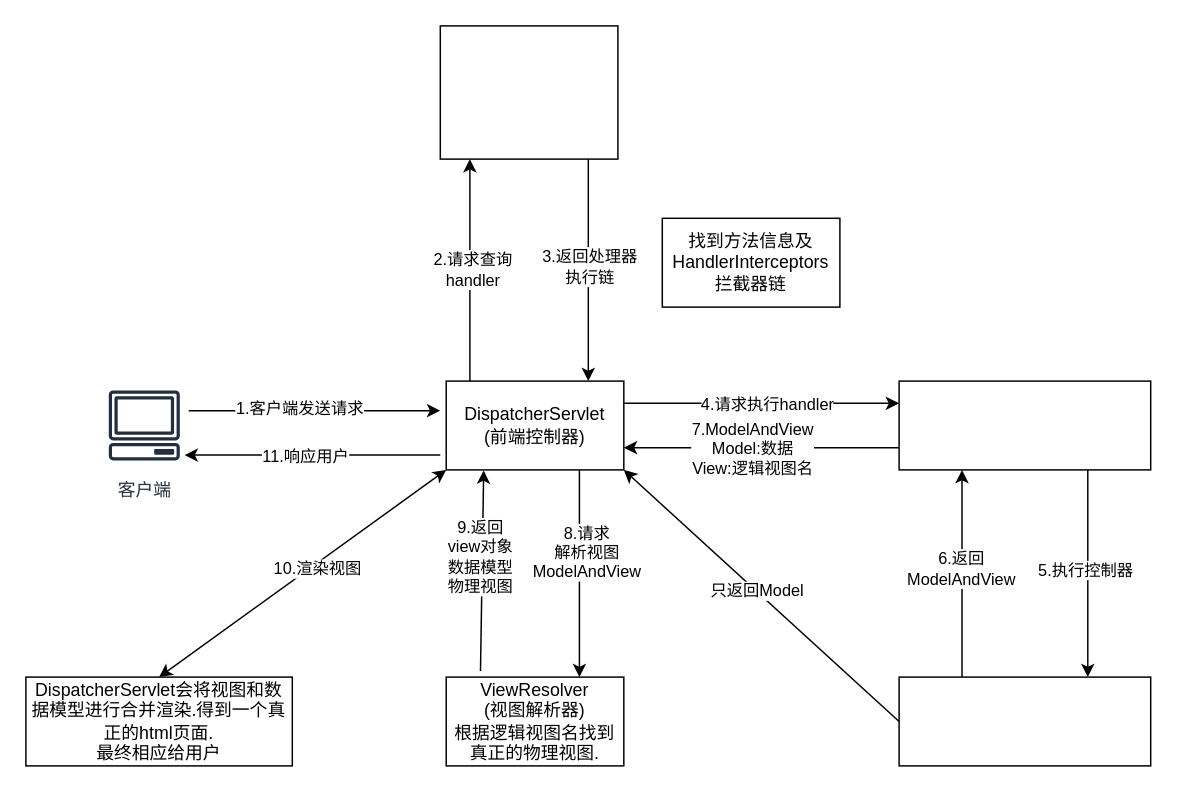
This 1177x792 diagram has some shape labels left out. Here are the shapes that lost their labels. From the top down, the box of each, then its label:
(439, 24, 618, 159): HandlerMapping (处理映射器) 将所有的映射路径和对应的方法声明存放到一个Map中
(898, 380, 1151, 470): HandlerAdapter (处理器适配器) 根据不同的请求形式进行适配,找到我们最终的方法.
(898, 676, 1151, 766): Controller (后端控制器) 我们自己写的
